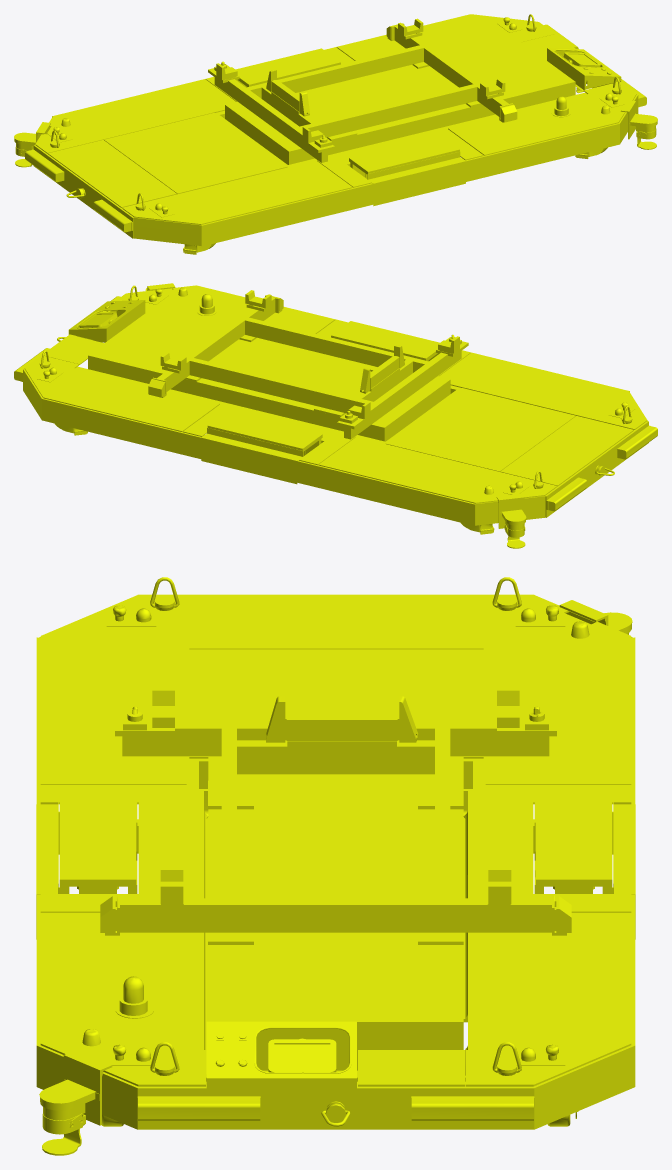
The model's file is AGV.fbx.
The picture shows the model from 3 angles, top to bottom: view 1: azimuth 30°, elevation 25°; view 2: azimuth 150°, elevation 25°; view 3: azimuth 270°, elevation 25°; orthographic projection. The views are drawn at different scales.
Visible parts, largest first — view 1: AGV; view 2: AGV; view 3: AGV.
Boxes of the visible parts, x1,y1,x2,y2 form: AGV: (14, 14, 657, 254); AGV: (14, 283, 657, 548); AGV: (36, 577, 635, 1155).
Bounding box in the file's own units: 413 × 66.18 × 199.
